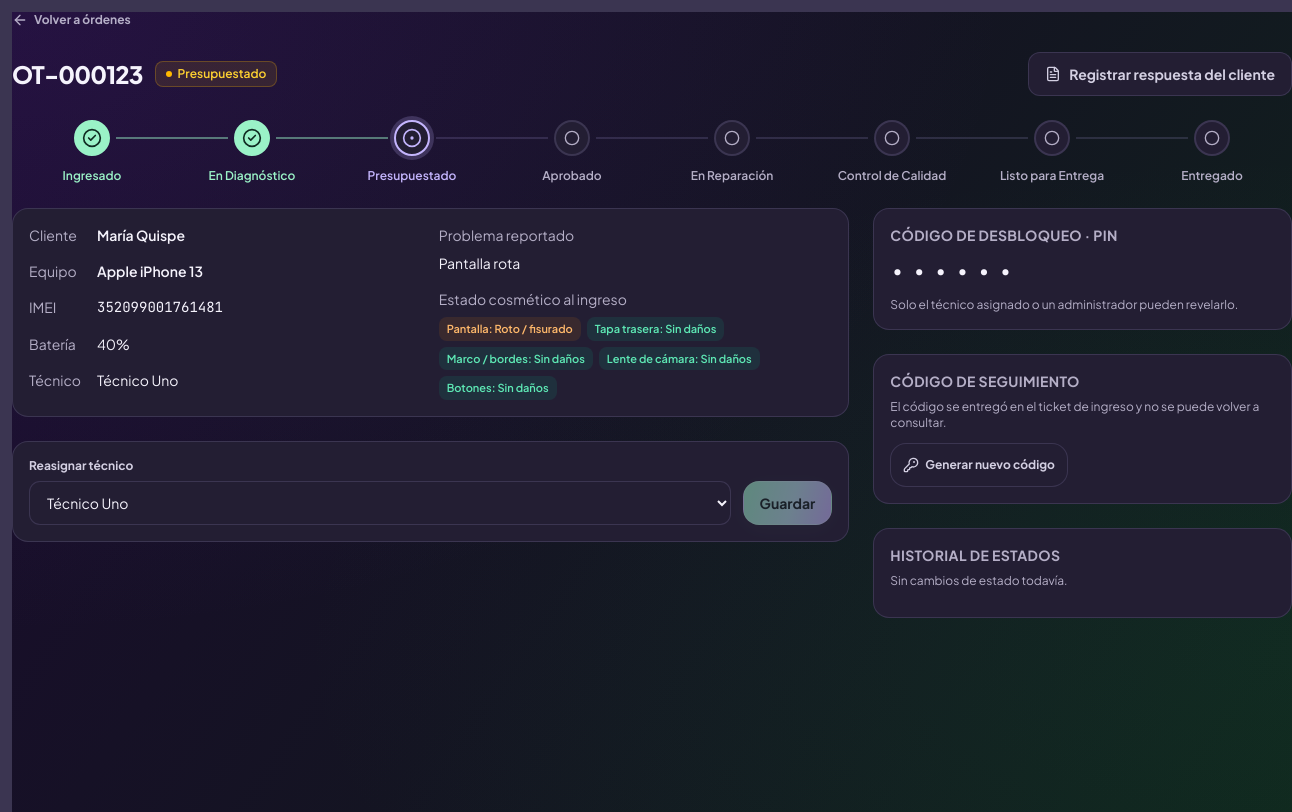
it: WorkOrderDetailPage › reassigns the technician and reports failures (RN-06) [004/RF-6.1] [004/RF-6.2]
Expected: the link "Registrar respuesta del cliente" is shown, [1028,52,1291,96]
Expected: the button "Guardar" is disabled, [743,481,832,525]
Select "Técnico Dos" in the dropdown labelled "Reasignar técnico" at (380, 503), box [29,481,731,525]
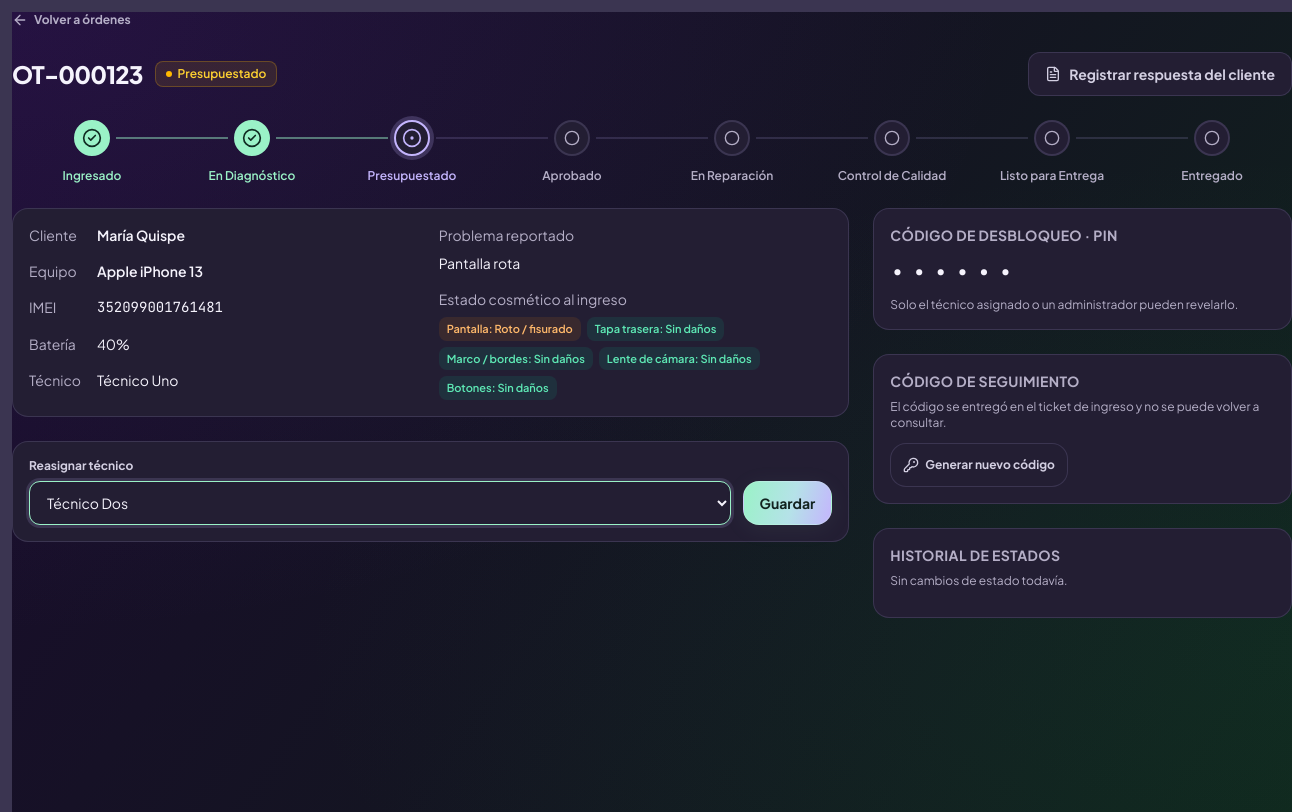
Click the button "Guardar" at (787, 503), box [743,481,832,525]
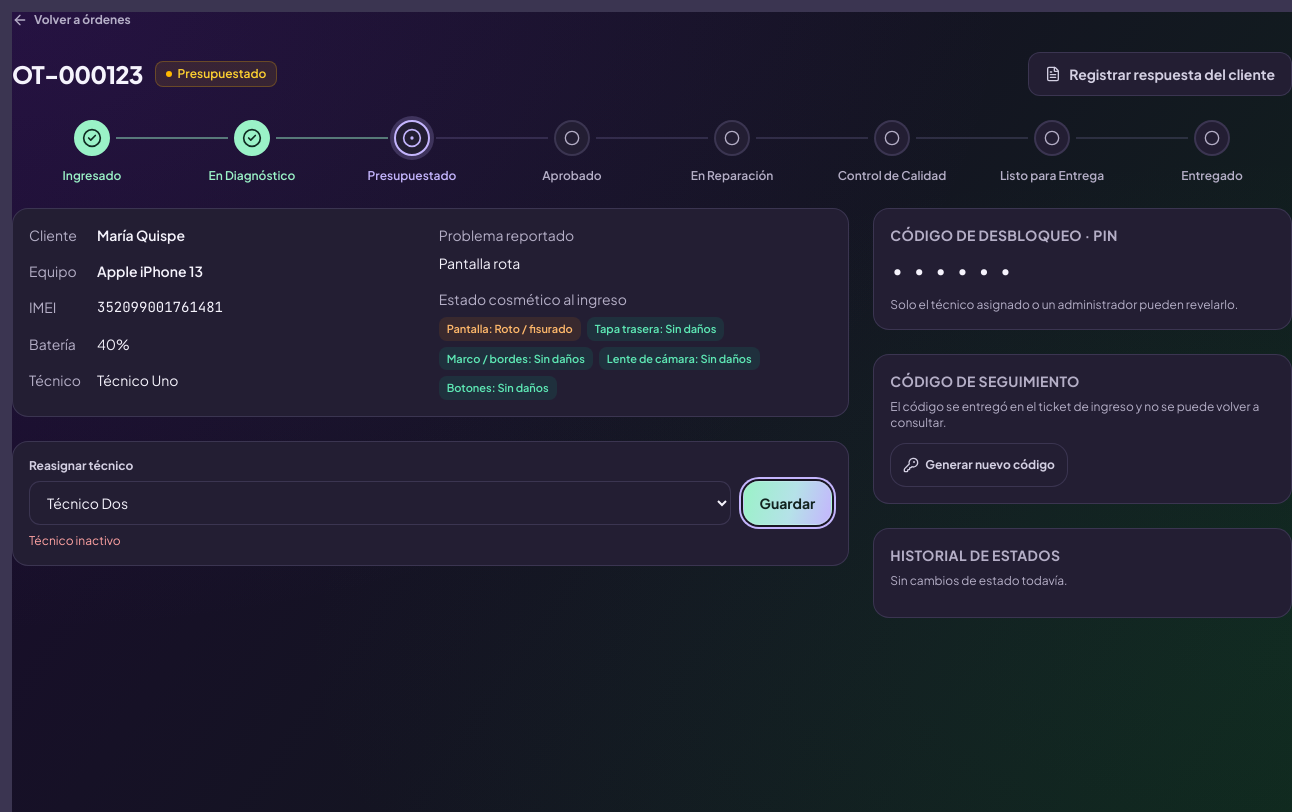
Now the text "Técnico inactivo" is shown, box [29,533,121,548]
Click the button "Guardar" at (787, 503), box [743,481,832,525]
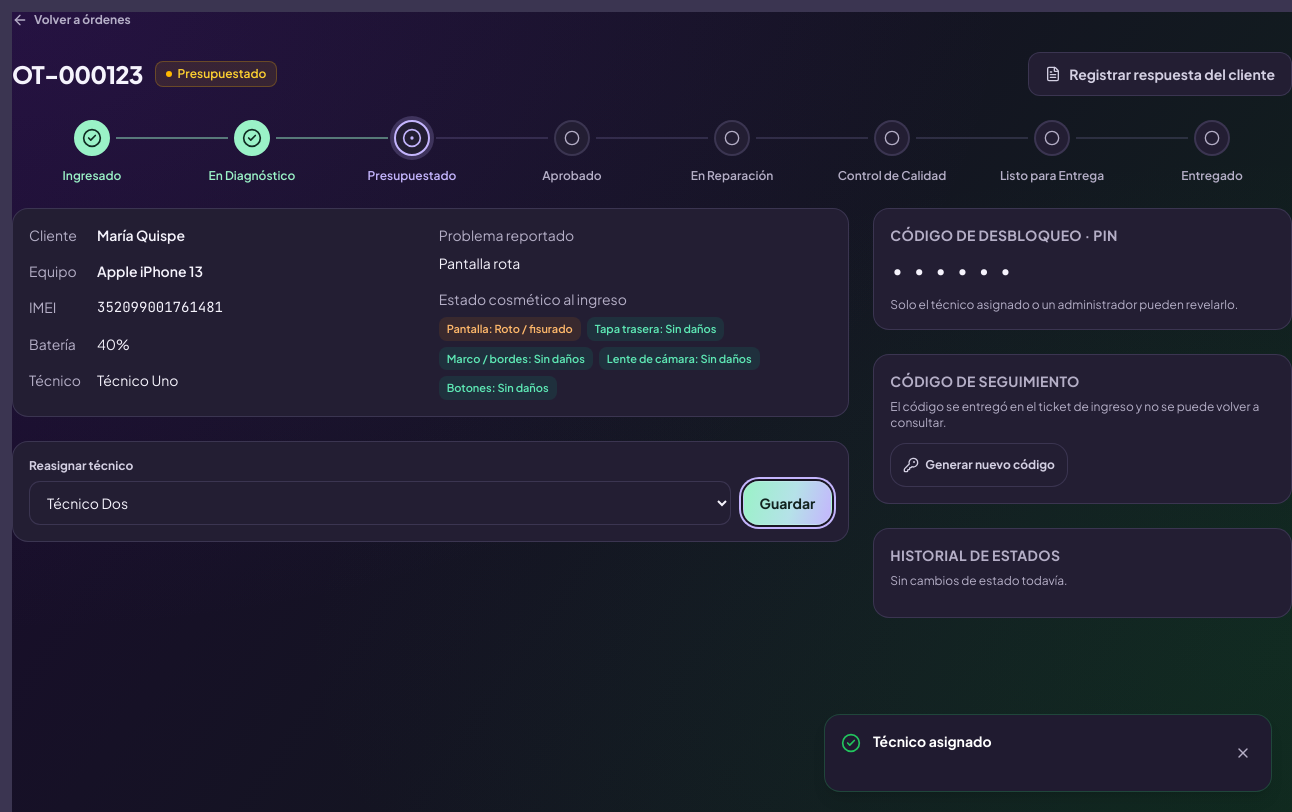
Now the heading "Técnico asignado" is shown, box [873,731,992,751]
